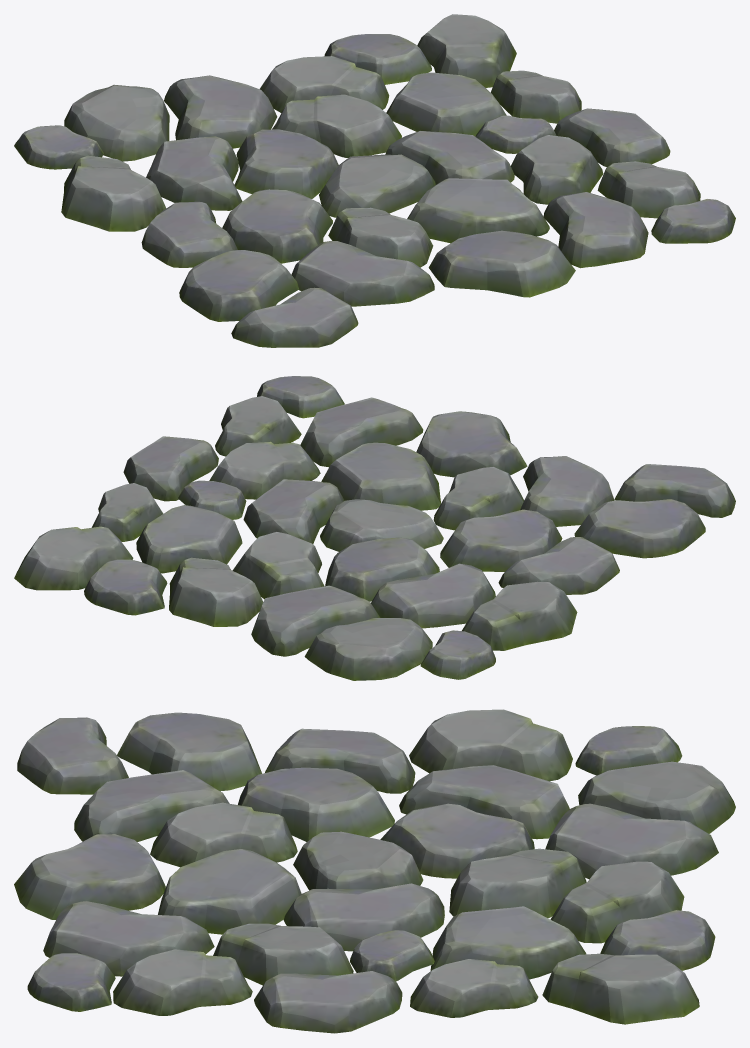
Rendered from sn_rock_path_round_wide.glb.
3 renders of one model, top to bottom at view 1: azimuth 30°, elevation 25°; view 2: azimuth 150°, elevation 25°; view 3: azimuth 270°, elevation 25°, orthographic. The views are drawn at different scales.
Parts seen in each view (by area): view 1: RockPath_Round_Wide; view 2: RockPath_Round_Wide; view 3: RockPath_Round_Wide.
Part boxes in pixels (x1,y1,x2,y2): RockPath_Round_Wide: [14, 14, 735, 347]; RockPath_Round_Wide: [14, 376, 735, 680]; RockPath_Round_Wide: [14, 709, 735, 1033].
Size of the model in its own units: 2.11 by 0.1128 by 2.13.
Materials: 1 (1 with a texture image).
